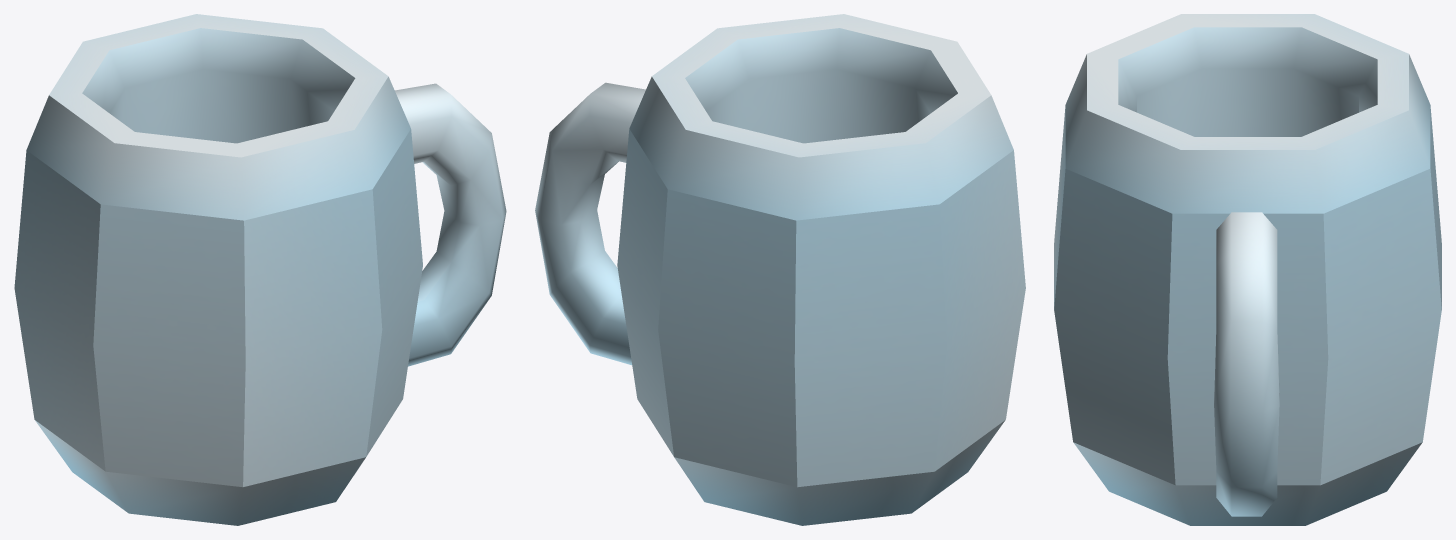
File: mug_glass.fbx
The picture shows the model from 3 angles, left to right: view 1: azimuth 30°, elevation 25°; view 2: azimuth 150°, elevation 25°; view 3: azimuth 270°, elevation 25°; orthographic projection.
Parts seen in each view (by area): view 1: mug_glass; view 2: mug_glass; view 3: mug_glass.
Part boxes in pixels (left/top/right/bottom): mug_glass: left=14, top=14, right=506, bottom=525; mug_glass: left=535, top=14, right=1025, bottom=525; mug_glass: left=1054, top=14, right=1441, bottom=525.
Size of the model in its own units: 33.11 by 26.96 by 24.59.
